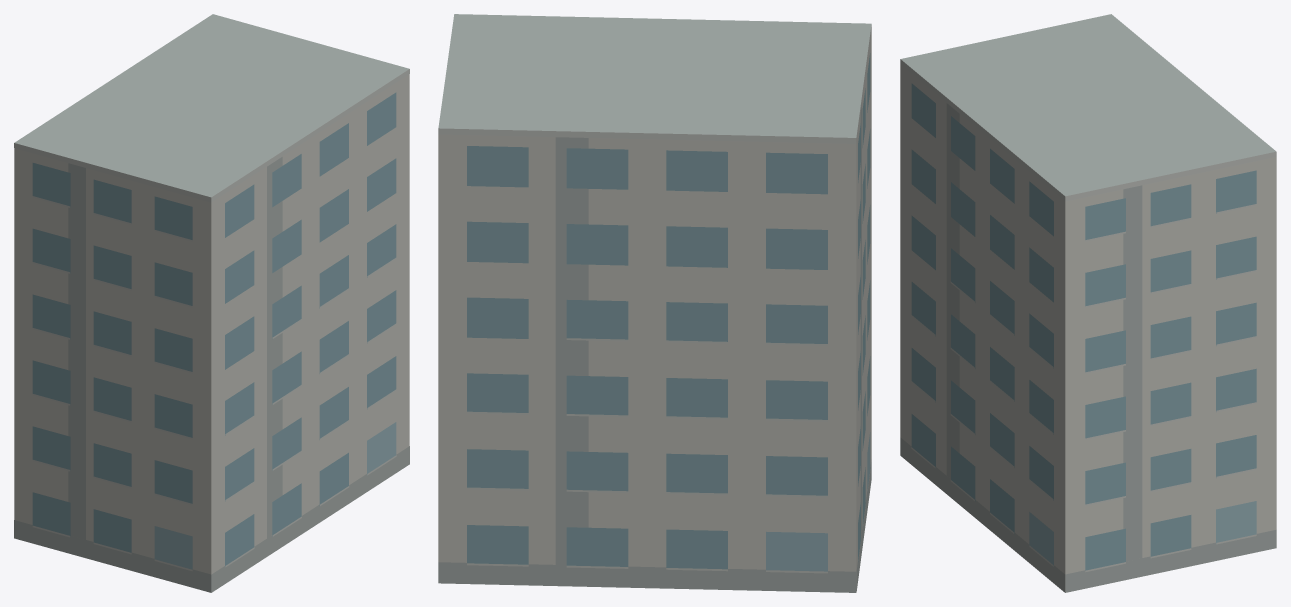
The model's file is survey-upis-32969064.glb.
3 views of the same model, side by side, from view 1: azimuth 30°, elevation 25°; view 2: azimuth 150°, elevation 25°; view 3: azimuth 270°, elevation 25° (orthographic). The views are drawn at different scales.
Visible parts, largest first — view 1: survey-upis-32969064.tmp; view 2: survey-upis-32969064.tmp; view 3: survey-upis-32969064.tmp.
Part boxes in pixels (x1,y1,x2,y2): survey-upis-32969064.tmp: [14, 14, 409, 592]; survey-upis-32969064.tmp: [438, 14, 871, 592]; survey-upis-32969064.tmp: [900, 14, 1276, 592].
Size of the model in its own units: 18.06 by 18.3 by 15.74.
